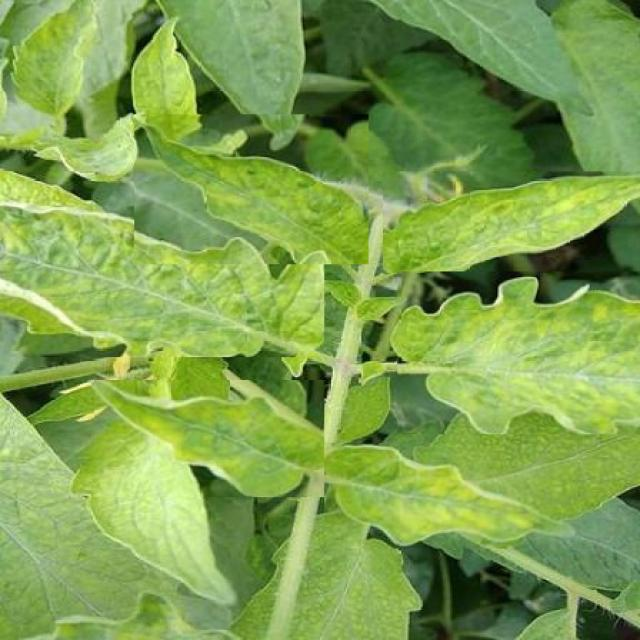Mosaic Virus: (0, 206, 324, 357), (398, 272, 640, 434), (134, 114, 369, 264), (94, 380, 324, 497), (324, 443, 577, 548), (383, 172, 640, 274)
